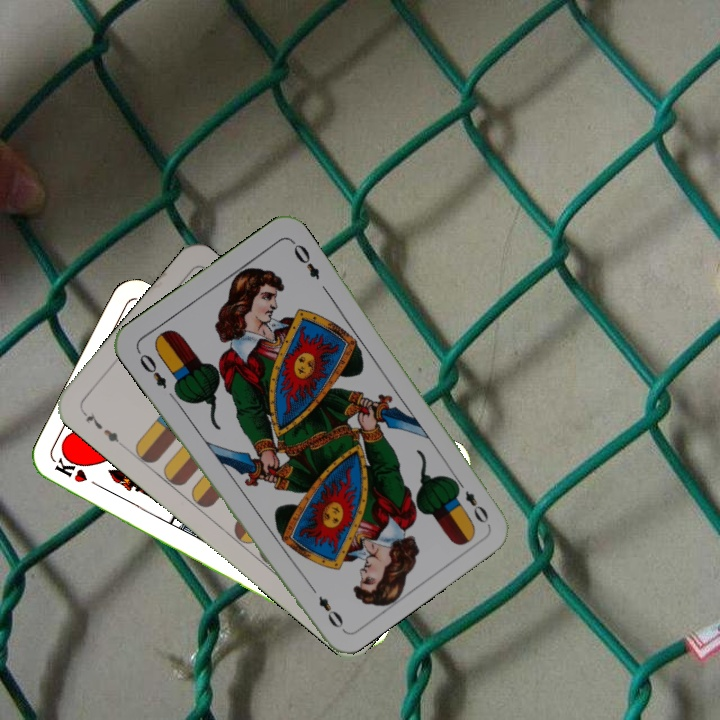E7: (77, 406, 127, 450)
EO: (450, 475, 492, 526), (133, 346, 170, 391)
HK: (51, 455, 107, 492)
